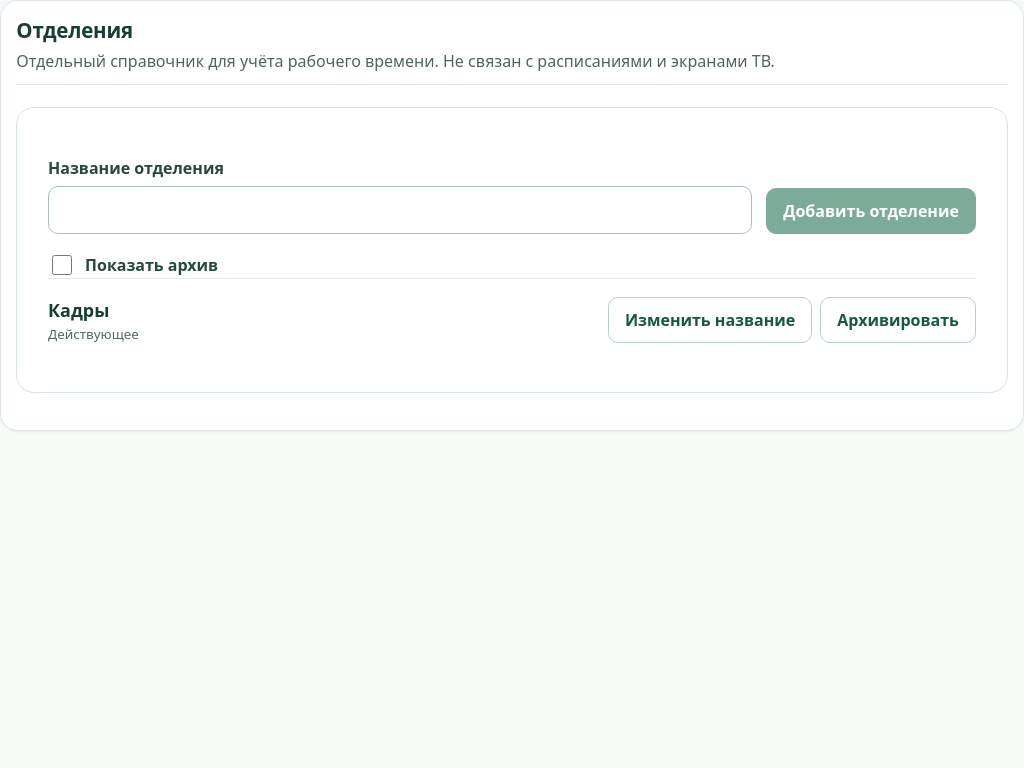
Test case: hides archived departments until requested and restores them
The width and height of the screenshot is (1024, 768).
Expected: the text "Кадры" is shown, [48,298,109,322]
Expected: the text "Архивный отдел" is not shown
Click the checkbox labelled "Показать архив": coordinates (62, 265) [52,255,72,275]
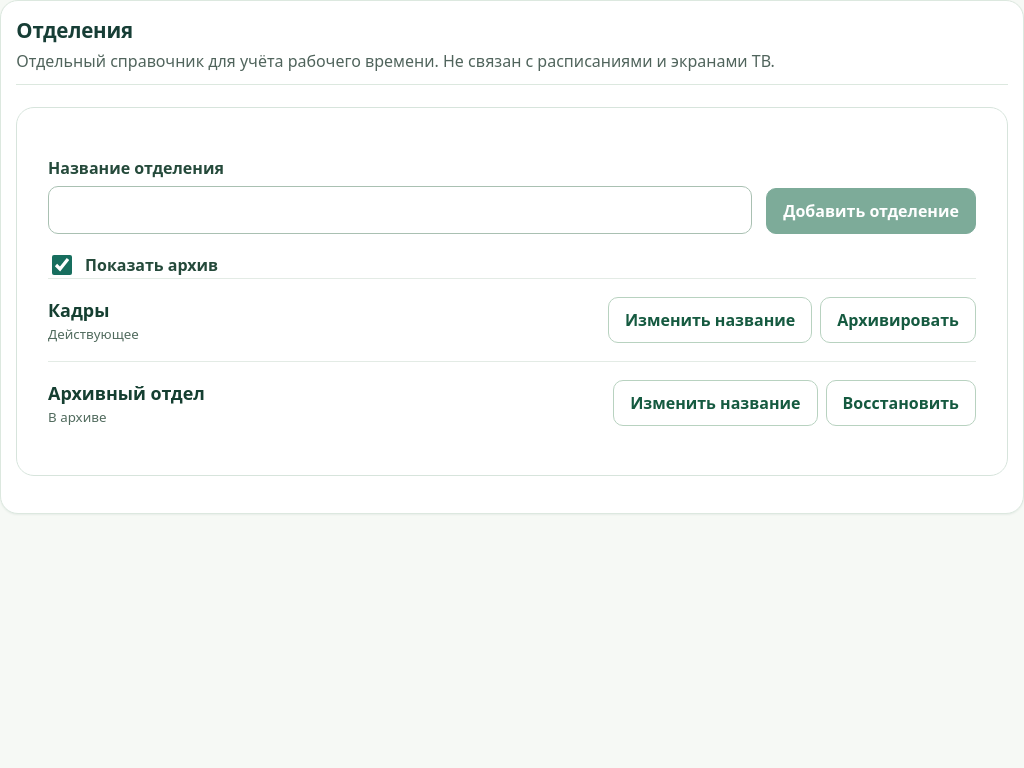
Click the button "Восстановить": coordinates (901, 403) [826,380,976,426]
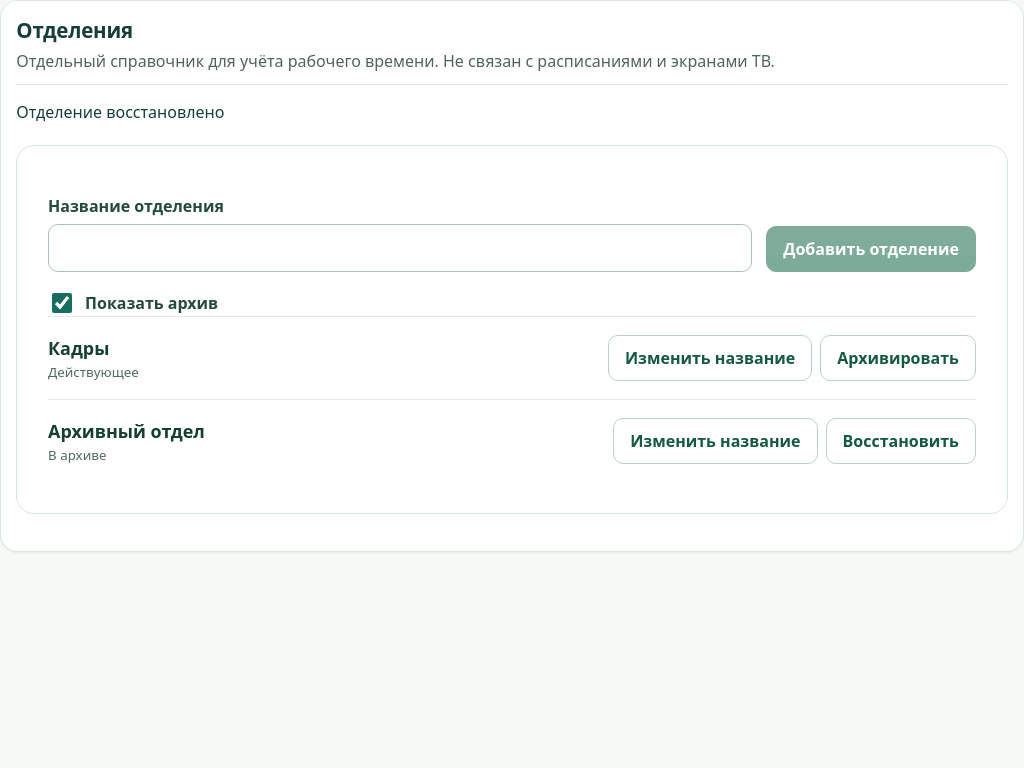
Expected: the text "Отделение восстановлено" is shown, [16,101,224,123]
